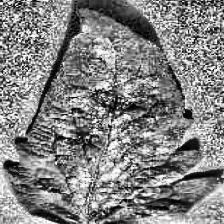spider mites: (4, 8, 224, 224)
